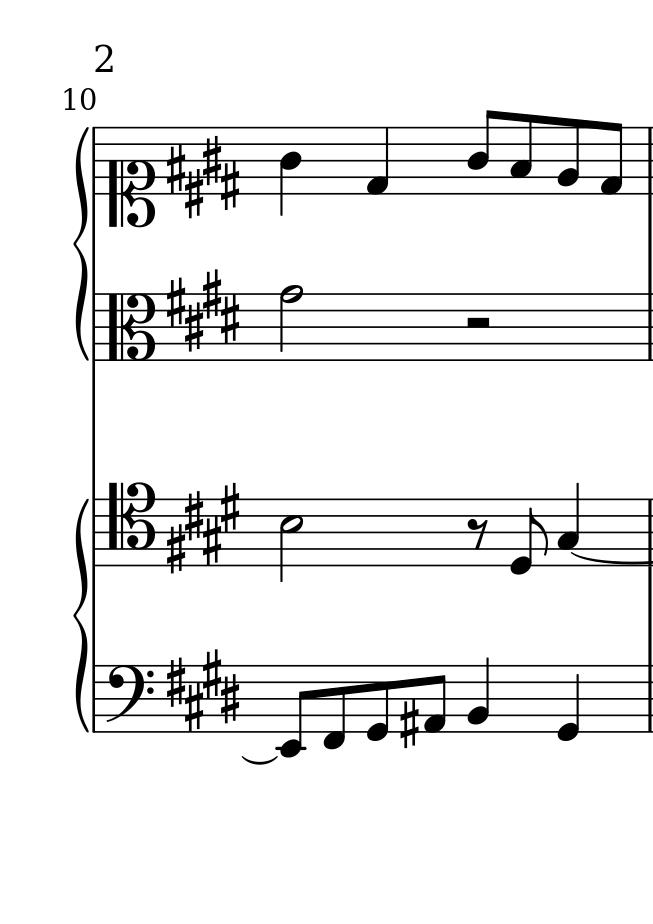0: (79, 85, 95, 113)
1: (62, 86, 76, 113)
2: (93, 42, 114, 73)
2_5: (278, 497, 304, 583)
2_7: (278, 284, 303, 356)
4_0: (556, 664, 583, 744)
4_1: (365, 126, 390, 197)
4_2: (464, 656, 492, 734)
4_3: (556, 483, 581, 565)
4_4: (279, 126, 303, 216)
8_-1: (323, 664, 347, 749)
8_-2: (275, 663, 310, 757)
8_0: (510, 498, 546, 577), (365, 663, 391, 743)
8_1: (598, 120, 624, 198), (423, 662, 448, 735)
8_2: (556, 116, 581, 197)
8_3: (508, 112, 534, 197)
8_4: (466, 110, 498, 196)
Brace: (69, 494, 91, 737), (71, 125, 91, 366)
Cclef: (106, 290, 155, 363)
E_S: (166, 648, 242, 739), (166, 484, 241, 575), (166, 268, 242, 357), (167, 133, 242, 217)
Fclef: (103, 663, 154, 735)
Rests2: (464, 315, 493, 331)
Rests8: (466, 517, 490, 551)
Sharp: (398, 698, 420, 750)
Single_barline: (88, 499, 103, 566), (89, 292, 102, 362), (640, 293, 653, 361), (89, 128, 102, 194), (641, 663, 653, 734), (641, 126, 653, 195), (90, 664, 102, 732), (642, 500, 653, 564)
Slur: (241, 752, 278, 766)
Soprano_Cclef: (106, 125, 153, 226)
Tensor_Cclef: (107, 482, 155, 567)
